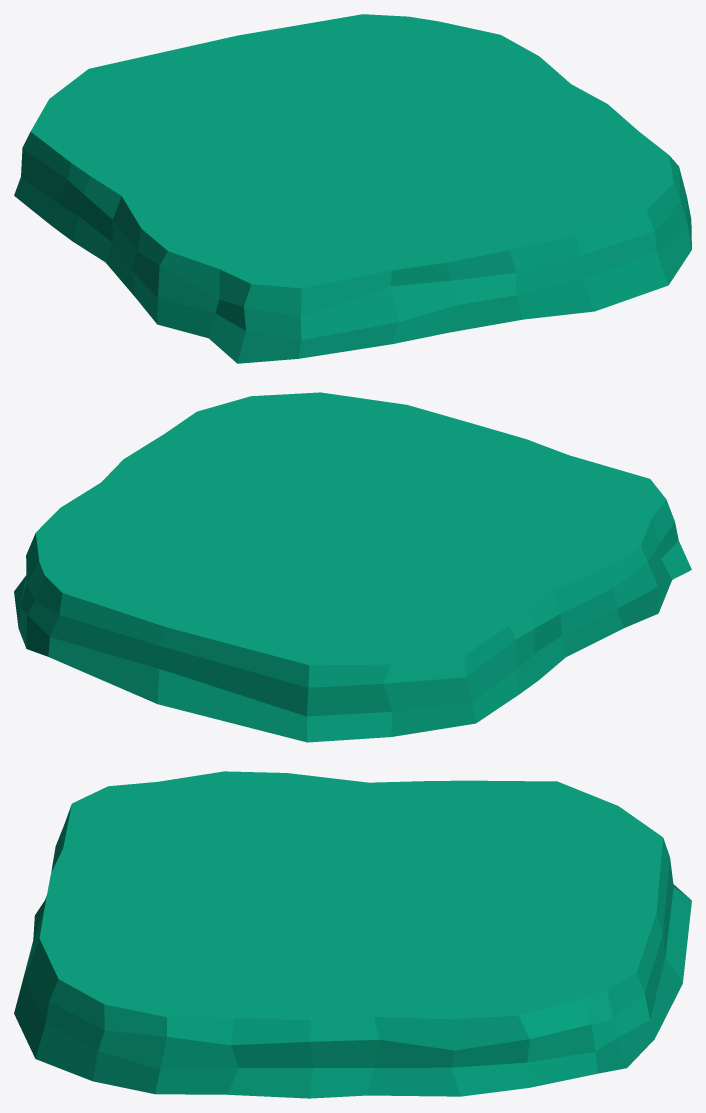
Rendered from generic_island.glb.
3 views of the same model, one above another, from view 1: azimuth 30°, elevation 25°; view 2: azimuth 150°, elevation 25°; view 3: azimuth 270°, elevation 25° (orthographic). The views are drawn at different scales.
Visible parts, largest first — view 1: Plane; view 2: Plane; view 3: Plane.
Boxes of the visible parts, x1,y1,x2,y2 form: Plane: (14,14,691,363); Plane: (14,392,691,742); Plane: (14,771,691,1098).
Size of what is drawn, in the model's own units: 18.63 by 2.45 by 20.13.
